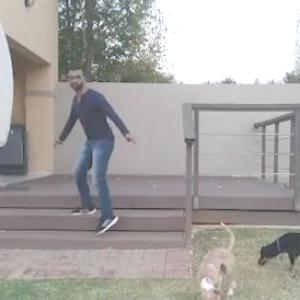land: (57, 61, 136, 239)
